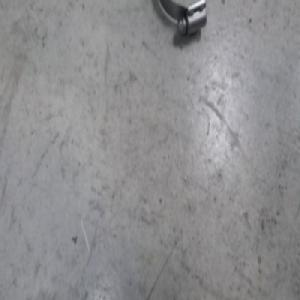AdjustableClamp: (160, 1, 207, 36)
